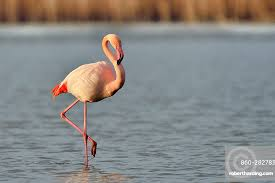Walking: (37, 26, 138, 178)
